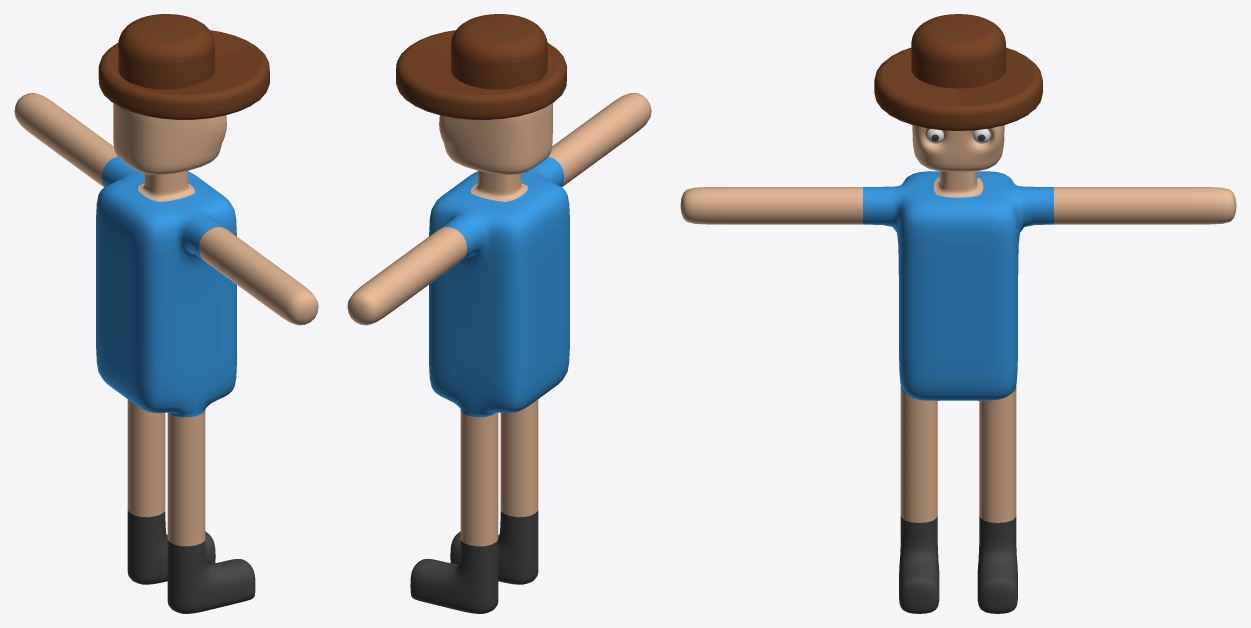
Rendered from personaje.fbx.
3 renders of one model, left to right at view 1: azimuth 30°, elevation 25°; view 2: azimuth 150°, elevation 25°; view 3: azimuth 270°, elevation 25°, orthographic.
Visible parts, largest first — view 1: Cube.001, Circle; view 2: Cube.001, Circle; view 3: Cube.001, Circle.
Boxes of the visible parts, left/top/right/bottom form: Cube.001: left=14, top=93, right=318, bottom=613; Circle: left=98, top=14, right=269, bottom=119; Cube.001: left=347, top=93, right=651, bottom=613; Circle: left=396, top=14, right=566, bottom=119; Cube.001: left=680, top=125, right=1236, bottom=613; Circle: left=874, top=14, right=1042, bottom=130.
Size of the model in its own units: 836 by 3055 by 2759.
